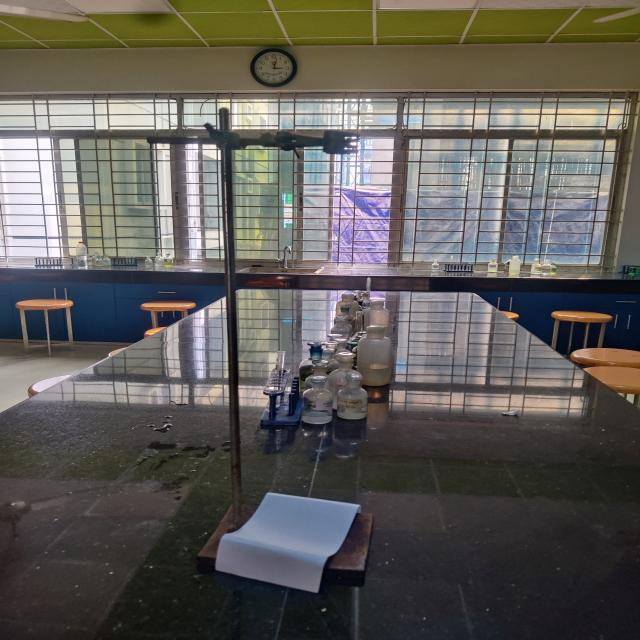Burette_Stands: (111, 96, 417, 620)
